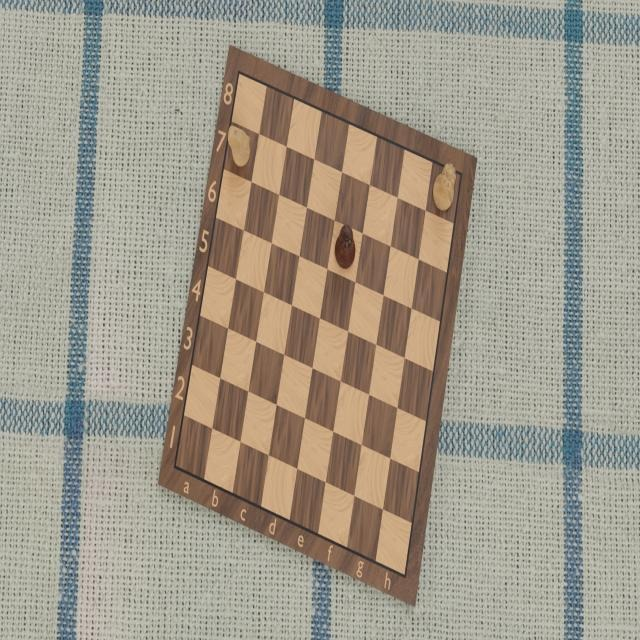black-king: (334, 222, 358, 274)
white-king: (430, 160, 457, 218)
white-knight: (226, 123, 254, 172)
